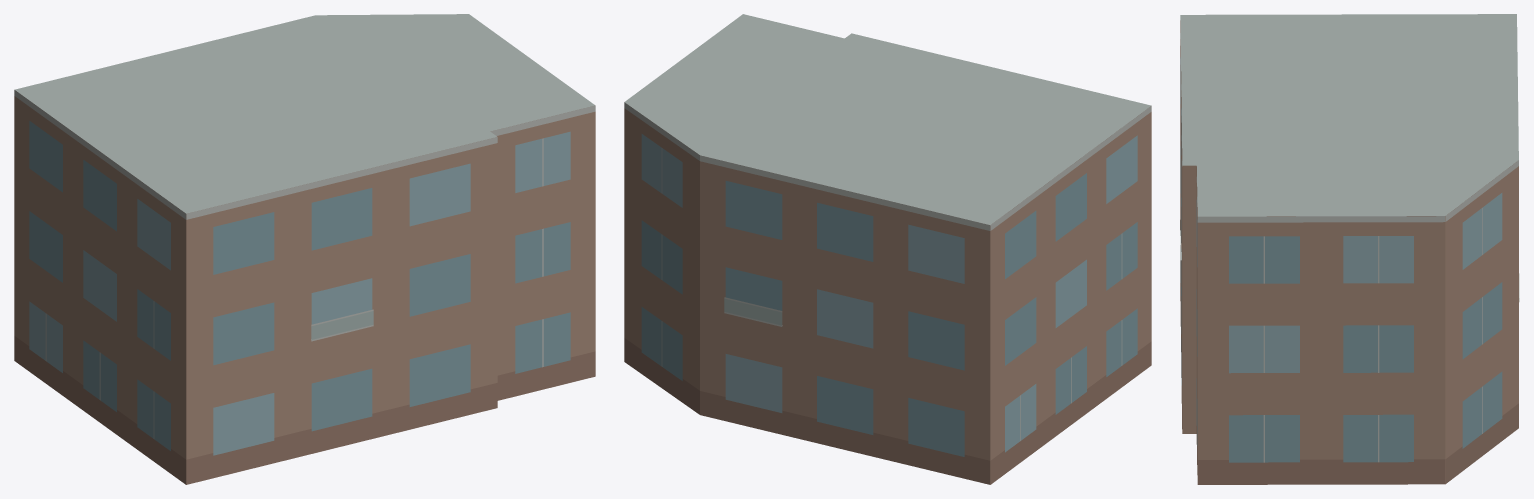
Rendered from survey-upis-32840264.glb.
3 renders of one model, left to right at view 1: azimuth 30°, elevation 25°; view 2: azimuth 150°, elevation 25°; view 3: azimuth 270°, elevation 25°, orthographic. The views are drawn at different scales.
Visible parts, largest first — view 1: survey-upis-32840264.tmp; view 2: survey-upis-32840264.tmp; view 3: survey-upis-32840264.tmp.
Part boxes in pixels (<box>): survey-upis-32840264.tmp: <box>14,14,595,484</box>; survey-upis-32840264.tmp: <box>624,14,1151,484</box>; survey-upis-32840264.tmp: <box>1180,14,1519,484</box>.
Size of the model in its own units: 17.34 by 10.7 by 12.28.
